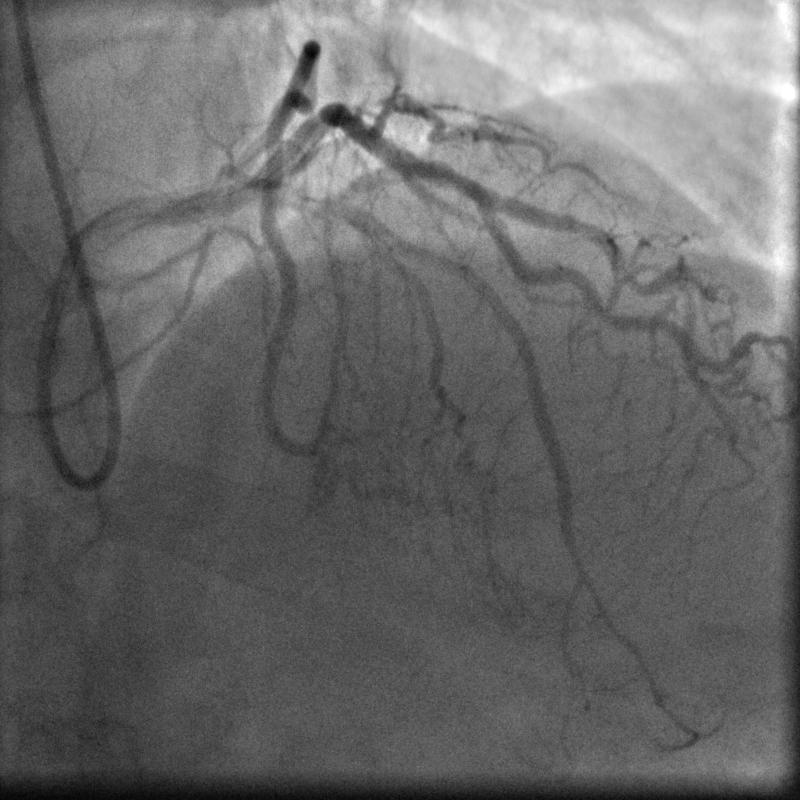Stenosis: (436, 154, 479, 209)
